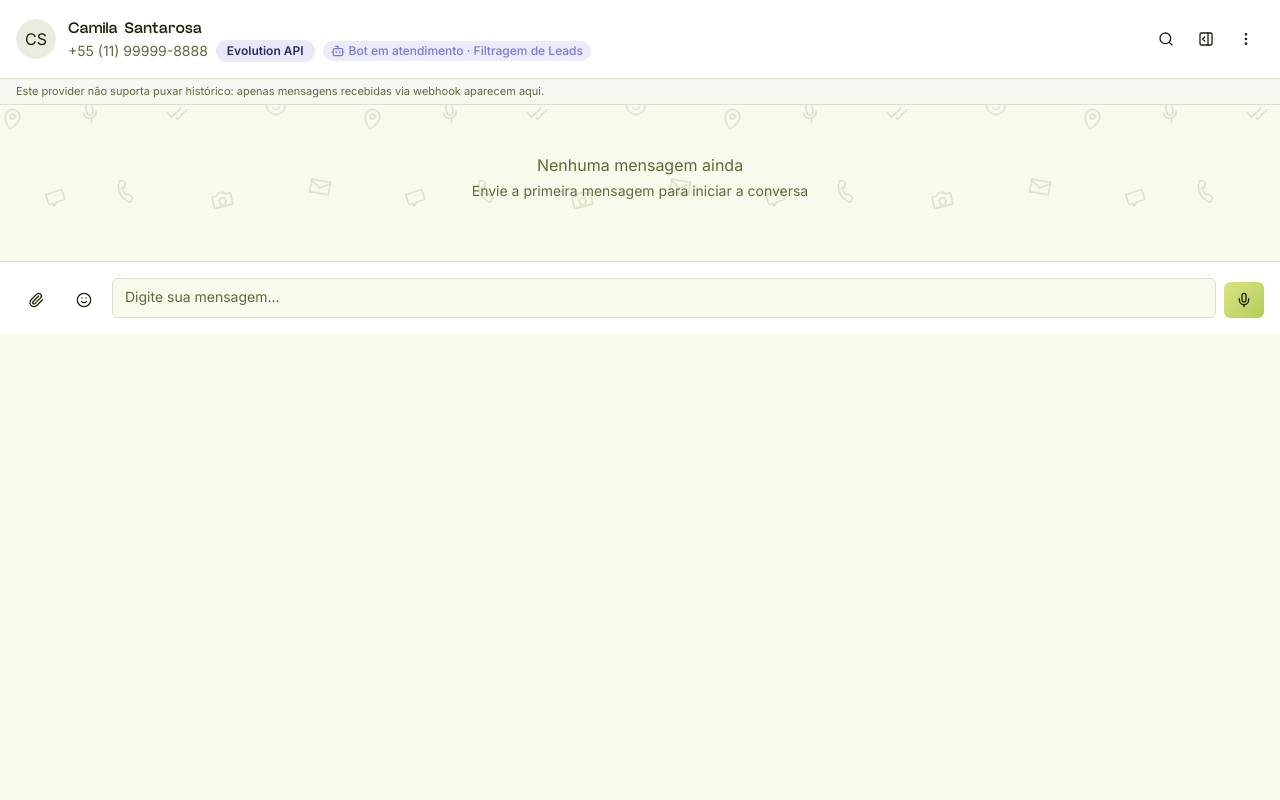
Test: ChatWindow — bot em atendimento › encerrar: mira a sessão mostrada, e o selo some na hora (sem esperar o poll)
Expected: the element with test id "bot-session-badge" is shown, [323,41,591,61]
Step 1. Click the button named "Mais opções" → x=1246, y=39, box [1228,21,1264,57]
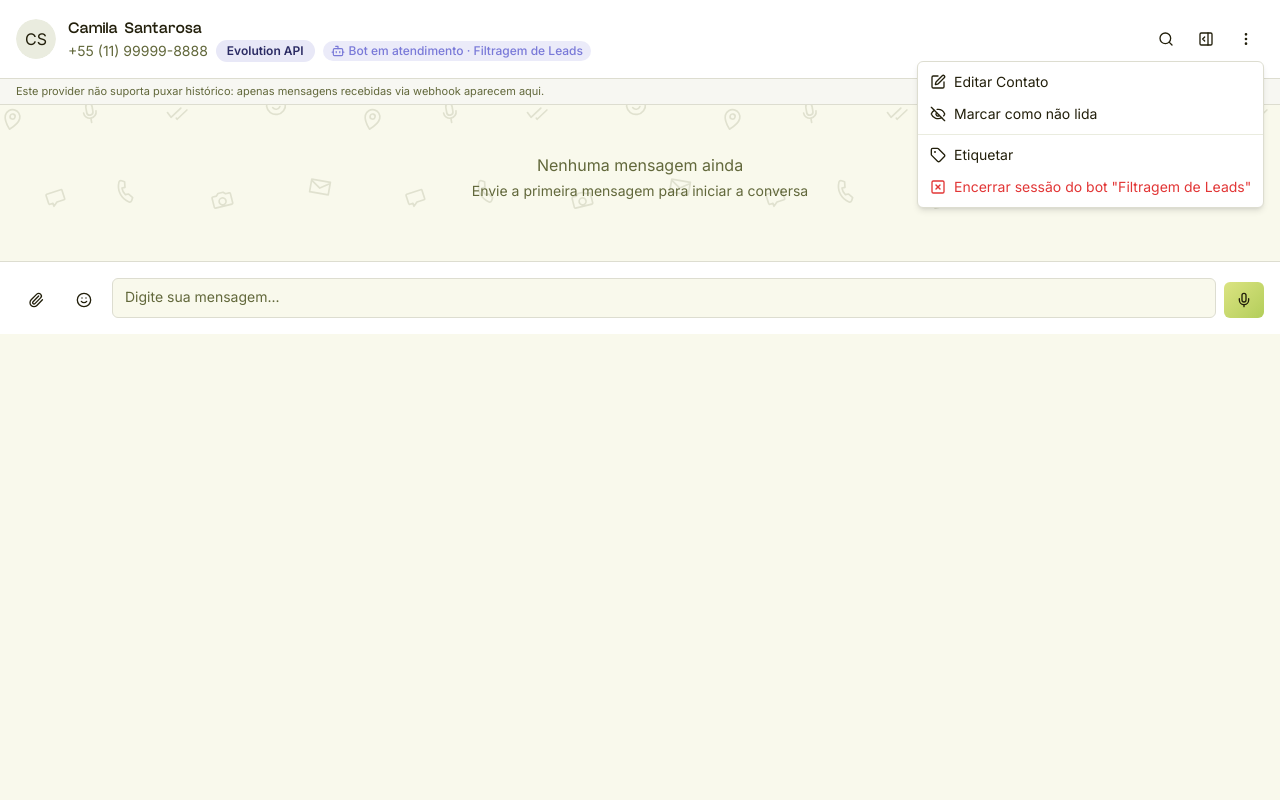
Step 2. Click the menu item "Encerrar sessão do bot \"Filtragem de Leads\"" → x=1091, y=186, box [930,178,1251,195]
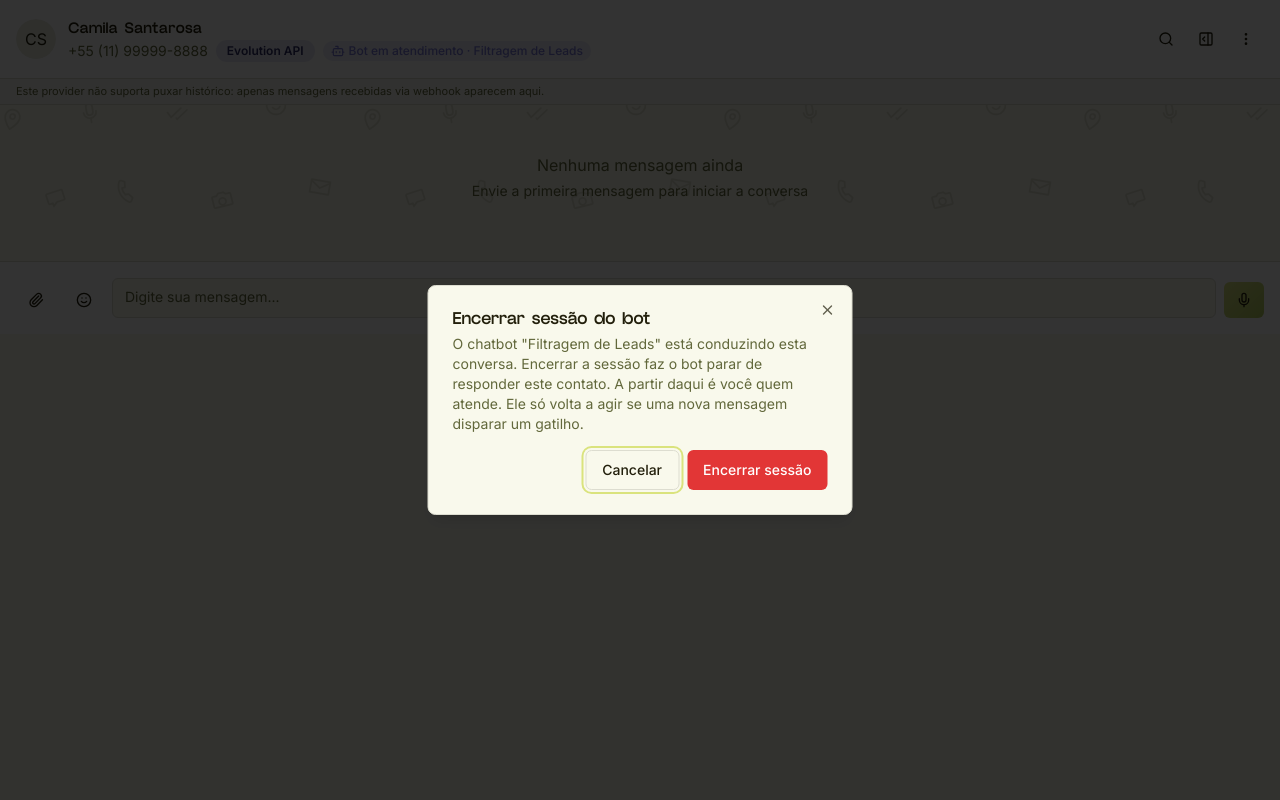
Expected: the dialog shows "\"Filtragem de Leads\" está conduzindo esta conversa", [452,335,807,372]
Step 3. Click the button "Encerrar sessão" → x=757, y=470, box [687,450,828,490]
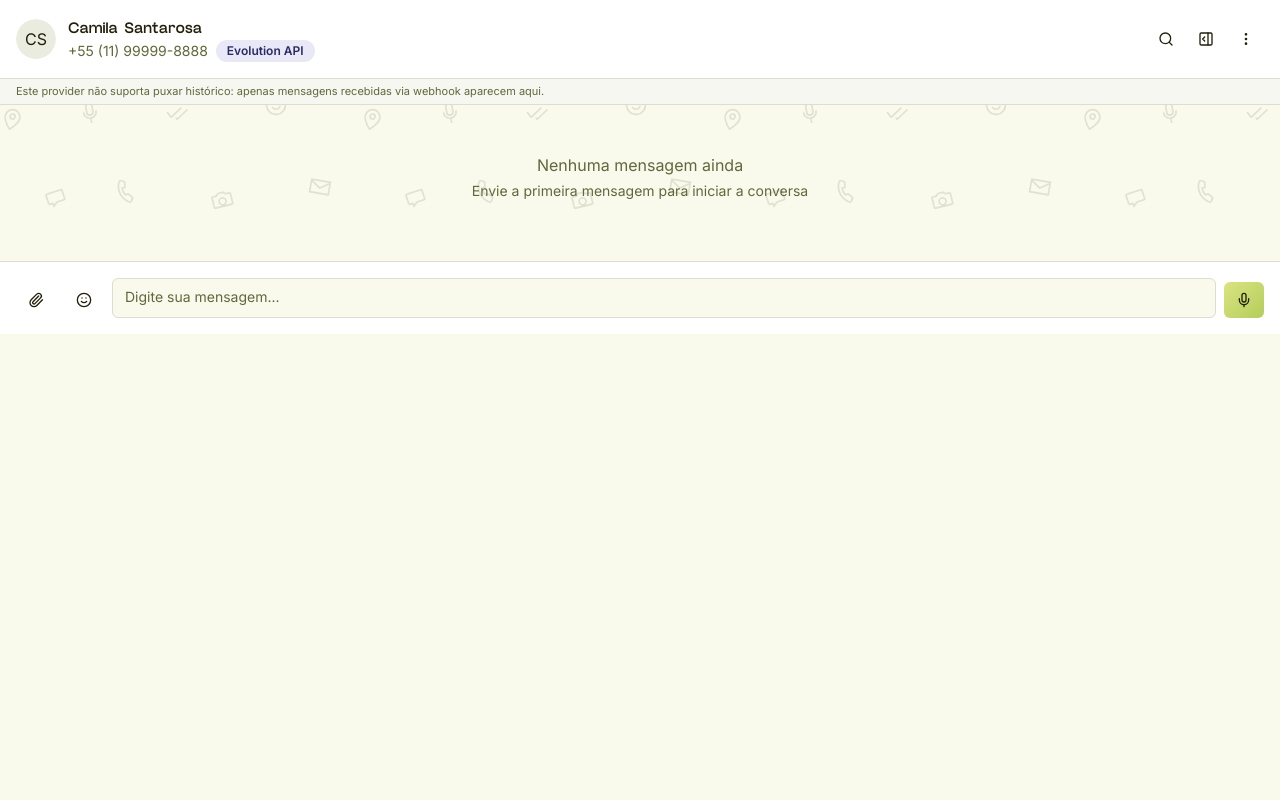
Expected: the element with test id "bot-session-badge" is gone
